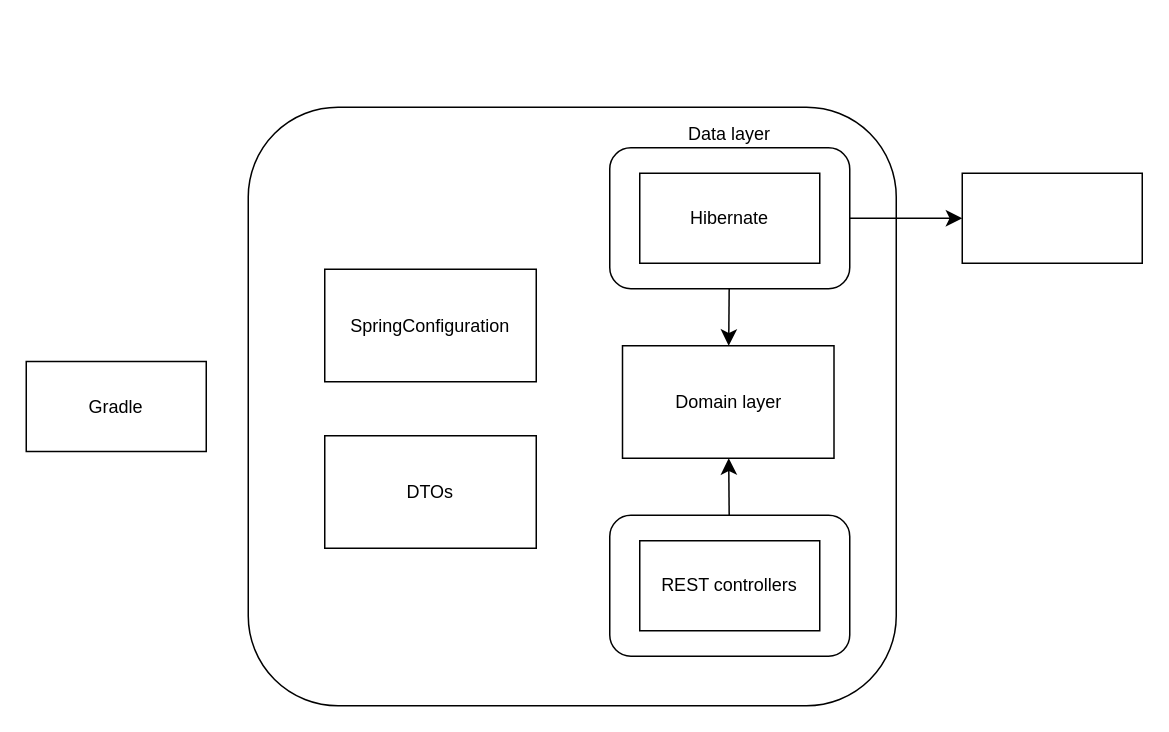
Image size: 1169x732. Some labels were removed from this diagram. The box of each missing label's shape, as (x1, y1, x2, y2) in pixels:
PostrgreSQL DataBase: (961, 172, 1142, 263)
Presentation layer: (608, 514, 850, 656)
SpringBoot application: (247, 106, 896, 706)
